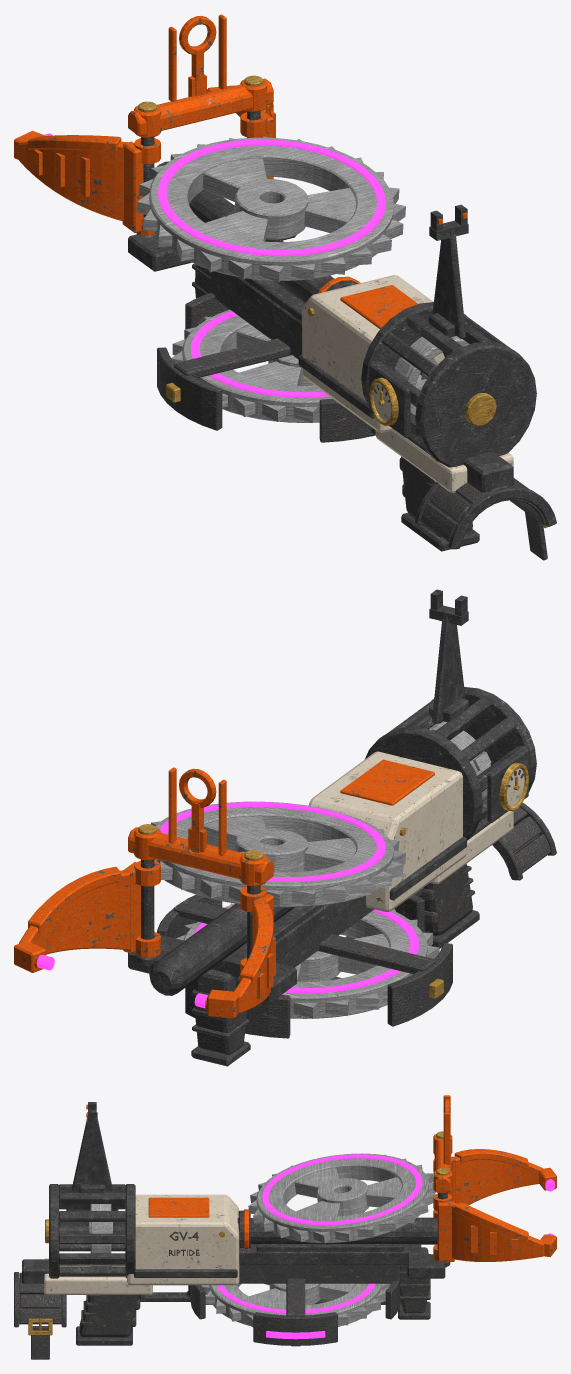
The model's file is skua.glb.
3 renders of one model, top to bottom at view 1: azimuth 30°, elevation 25°; view 2: azimuth 150°, elevation 25°; view 3: azimuth 270°, elevation 25°, orthographic. The views are drawn at different scales.
Visible parts, largest first — view 1: body | gunmetal, mag | blade steel, body | dark polymer, body | ivory coating, horn left | orange paint, body | orange paint, spare disc | blade steel, mag | polished edge, mag | razor glow, body | brass, spare disc | polished edge, spare disc | razor glow (+2 smaller); view 2: body | gunmetal, body | dark polymer, mag | blade steel, body | ivory coating, horn right | orange paint, body | orange paint, spare disc | blade steel, horn left | orange paint, mag | polished edge, mag | razor glow, spare disc | polished edge, body | brass (+2 smaller); view 3: body | gunmetal, body | dark polymer, body | ivory coating, mag | blade steel, horn right | orange paint, horn left | orange paint, spare disc | blade steel, body | orange paint, mag | polished edge, mag | razor glow, spare disc | polished edge, spare disc | razor glow (+4 smaller).
Boxes of the visible parts, left/top/right/bottom form: body | gunmetal: left=128, top=111, right=556, bottom=551; mag | blade steel: left=149, top=137, right=394, bottom=280; body | dark polymer: left=157, top=264, right=547, bottom=560; body | ivory coating: left=302, top=275, right=513, bottom=492; horn left | orange paint: left=14, top=130, right=160, bottom=235; body | orange paint: left=128, top=14, right=467, bottom=329; spare disc | blade steel: left=182, top=309, right=331, bottom=422; mag | polished edge: left=136, top=136, right=405, bottom=282; mag | razor glow: left=158, top=139, right=385, bottom=256; body | brass: left=138, top=75, right=547, bottom=528; spare disc | polished edge: left=171, top=316, right=317, bottom=422; spare disc | razor glow: left=191, top=311, right=329, bottom=397; body | gunmetal: left=128, top=589, right=556, bottom=1066; body | dark polymer: left=157, top=807, right=550, bottom=1054; mag | blade steel: left=155, top=801, right=394, bottom=907; body | ivory coating: left=308, top=751, right=524, bottom=911; horn right | orange paint: left=14, top=860, right=160, bottom=972; body | orange paint: left=128, top=759, right=434, bottom=886; spare disc | blade steel: left=183, top=903, right=427, bottom=1018; horn left | orange paint: left=205, top=886, right=275, bottom=1018; mag | polished edge: left=151, top=819, right=405, bottom=906; mag | razor glow: left=160, top=802, right=385, bottom=881; spare disc | polished edge: left=176, top=903, right=439, bottom=1018; body | brass: left=138, top=762, right=528, bottom=998; body | gunmetal: left=14, top=1102, right=450, bottom=1345; body | dark polymer: left=19, top=1247, right=430, bottom=1359; body | ivory coating: left=44, top=1194, right=239, bottom=1294; mag | blade steel: left=256, top=1153, right=428, bottom=1242; horn right | orange paint: left=433, top=1193, right=556, bottom=1262; horn left | orange paint: left=433, top=1149, right=556, bottom=1217; spare disc | blade steel: left=209, top=1283, right=382, bottom=1326; body | orange paint: left=86, top=1095, right=452, bottom=1248; mag | polished edge: left=248, top=1153, right=435, bottom=1243; mag | razor glow: left=262, top=1154, right=422, bottom=1225; spare disc | polished edge: left=201, top=1283, right=390, bottom=1327; spare disc | razor glow: left=216, top=1283, right=375, bottom=1313.
Bounding box in the file's own units: 0.252 × 0.3065 × 0.6274.
Materials: 8 (7 with a texture image).
